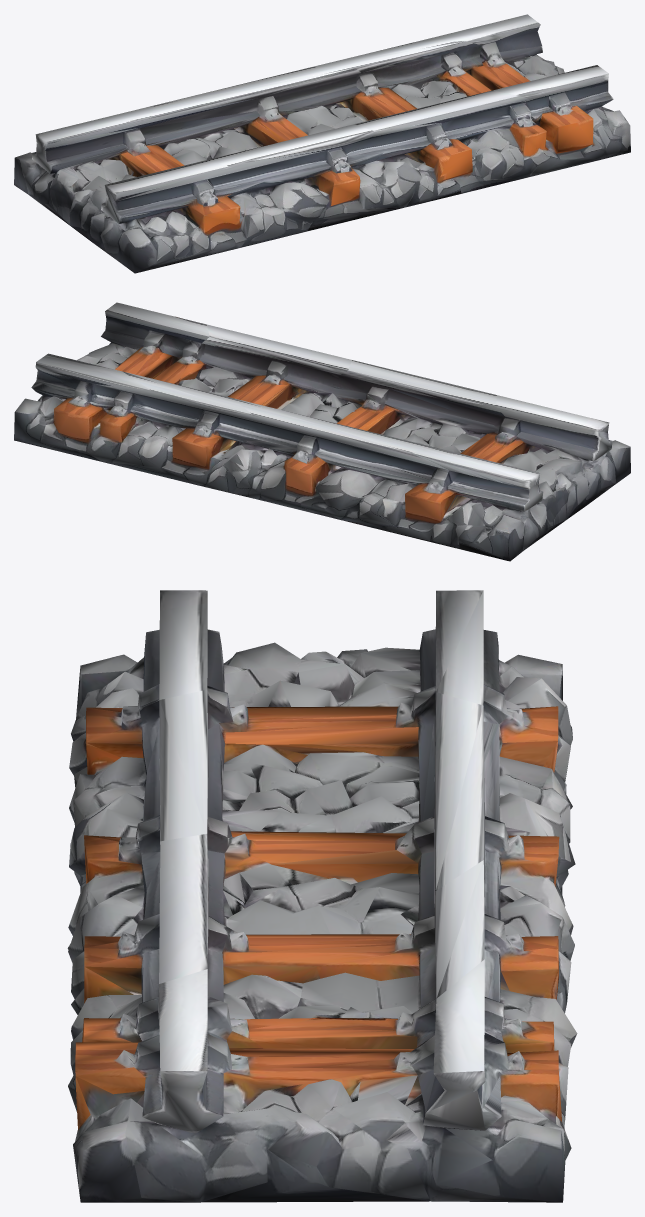
File: rail_meshy.glb
3 renders of one model, top to bottom at view 1: azimuth 30°, elevation 25°; view 2: azimuth 150°, elevation 25°; view 3: azimuth 270°, elevation 25°, orthographic. The views are drawn at different scales.
Parts seen in each view (by area): view 1: Mesh_0; view 2: Mesh_0; view 3: Mesh_0.
Boxes of the visible parts, left/top/right/bottom form: Mesh_0: left=14, top=14, right=630, bottom=273; Mesh_0: left=14, top=302, right=630, bottom=561; Mesh_0: left=67, top=590, right=577, bottom=1202.
Size of the model in its own units: 1.9 by 0.2316 by 0.8233.
Materials: 1 (1 with a texture image).
